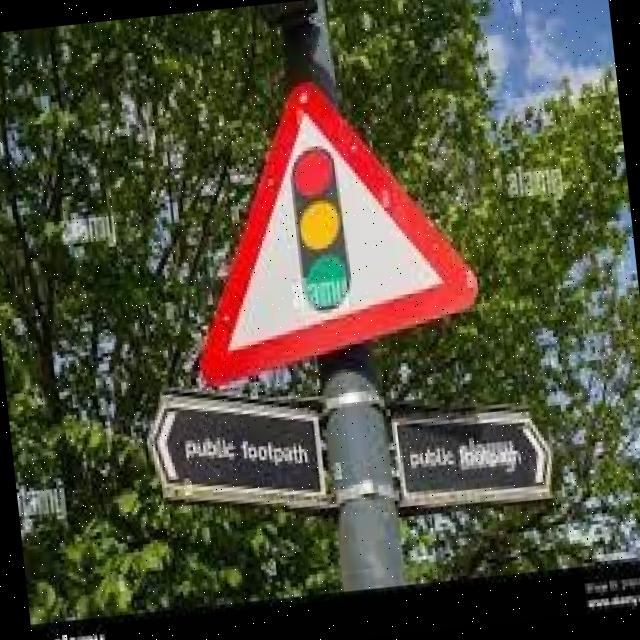light_traffic: (172, 63, 481, 394)
